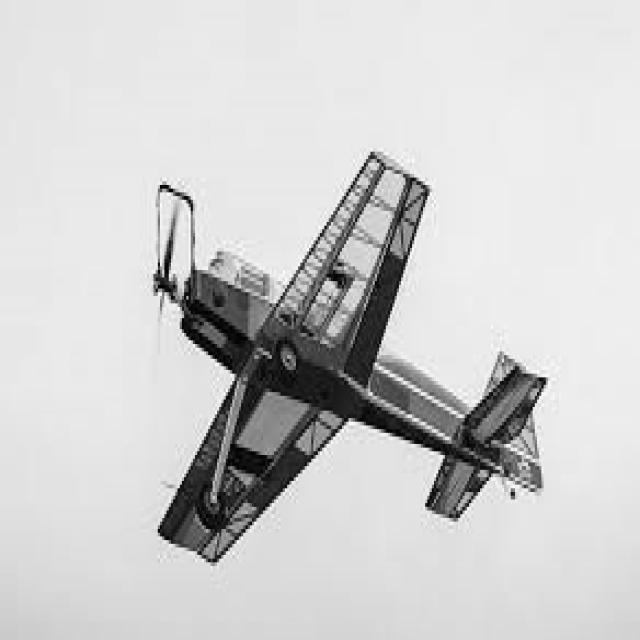iha: (153, 152, 544, 559)
